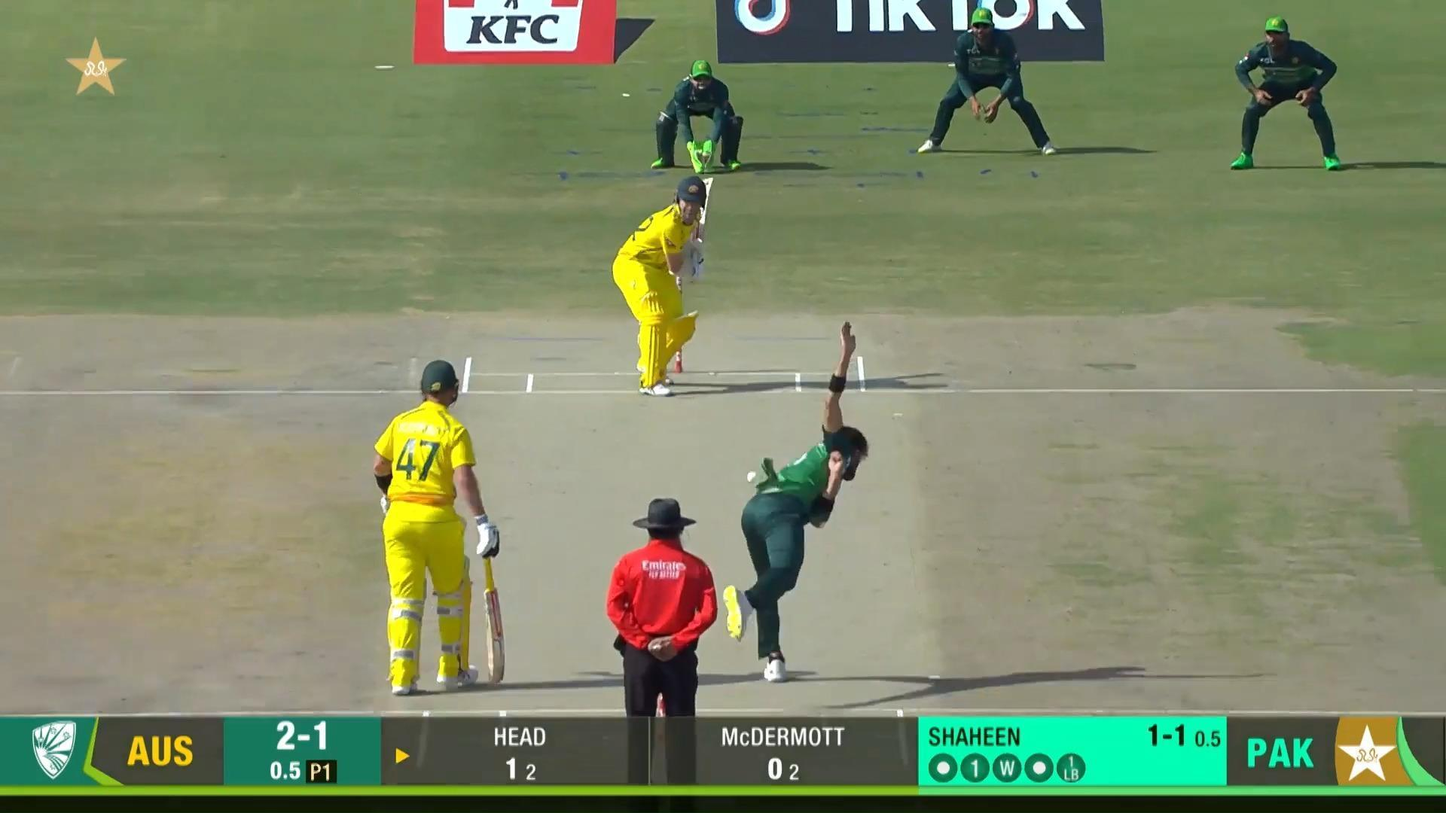BM 1: (612, 174, 714, 397)
BO: (723, 319, 869, 683)
